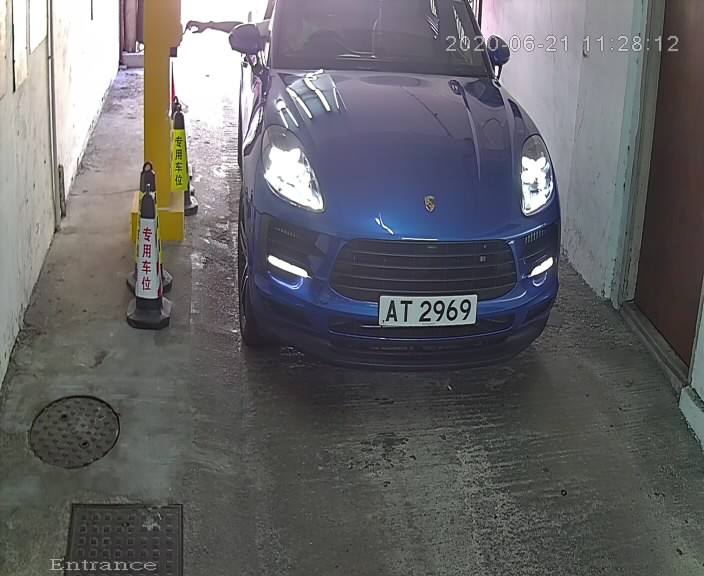privatecar: (219, 1, 574, 379)
